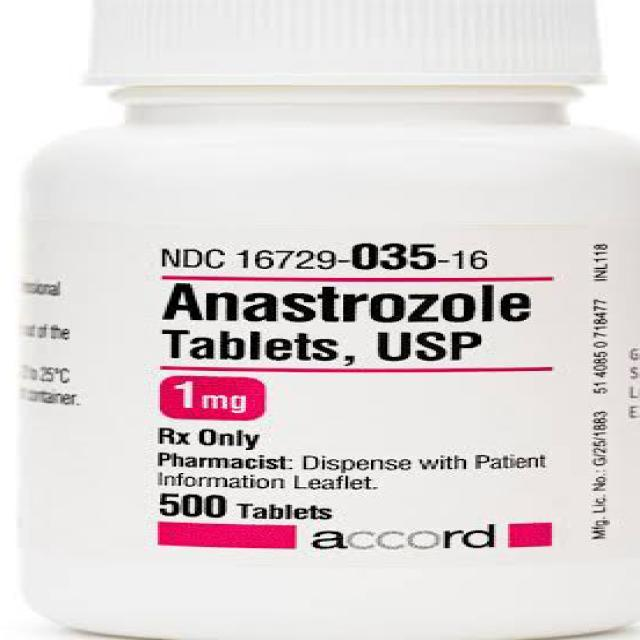drug-name: (156, 280, 554, 332)
